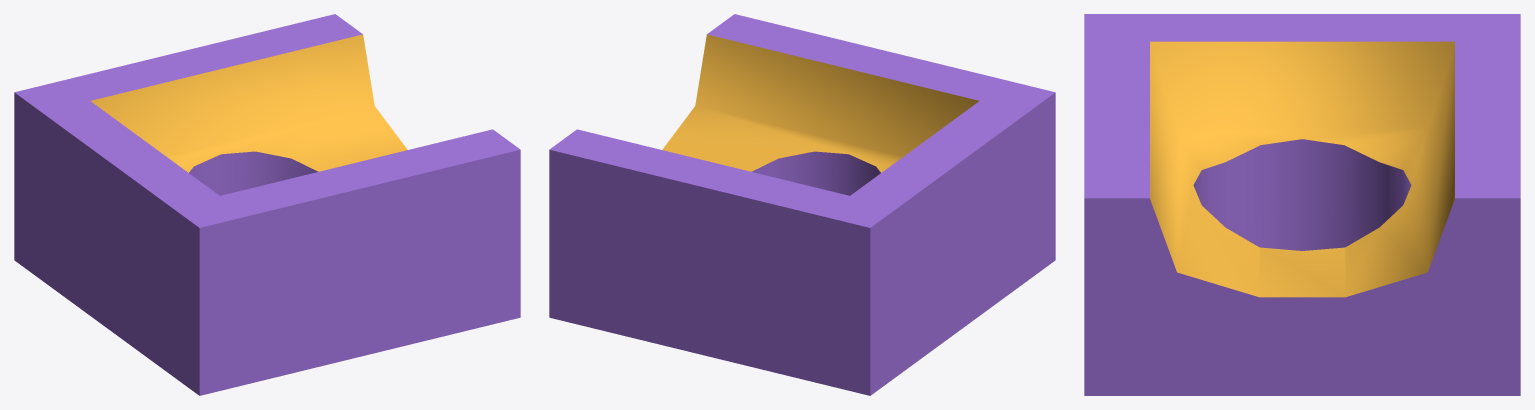
Rendered from end-hole-square-col.glb.
3 renders of one model, left to right at view 1: azimuth 30°, elevation 25°; view 2: azimuth 150°, elevation 25°; view 3: azimuth 270°, elevation 25°, orthographic. The views are drawn at different scales.
Parts seen in each view (by area): view 1: end-hole-square-col; view 2: end-hole-square-col; view 3: end-hole-square-col.
Boxes of the visible parts, x1=… form: end-hole-square-col: x1=14, y1=14, x2=520, y2=395; end-hole-square-col: x1=549, y1=14, x2=1055, y2=395; end-hole-square-col: x1=1084, y1=14, x2=1520, y2=395.
Size of the model in its own units: 1 by 0.5 by 1.
Materials: 1 (1 with a texture image).
